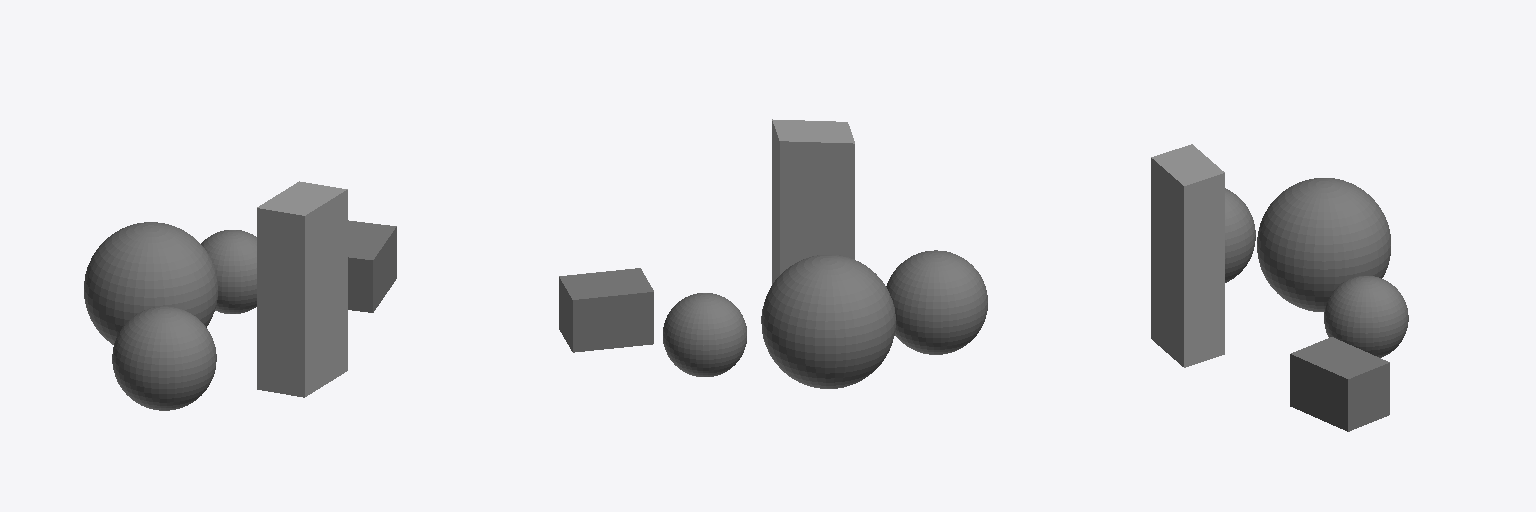
The model's file is balls_smooth.obj.
3 views of the same model, side by side, from view 1: azimuth 30°, elevation 25°; view 2: azimuth 150°, elevation 25°; view 3: azimuth 270°, elevation 25° (orthographic).
Visible parts, largest first — view 1: Cube_Cube.000, Sphere, Sphere.001, Cube_Cube.001, Sphere.002; view 2: Sphere, Cube_Cube.000, Sphere.001, Cube_Cube.001, Sphere.002; view 3: Cube_Cube.000, Sphere, Cube_Cube.001, Sphere.002, Sphere.001.
Boxes of the visible parts, <box> form: Cube_Cube.000: <box>257,181,347,397</box>; Sphere: <box>84,222,217,344</box>; Sphere.001: <box>112,306,216,410</box>; Cube_Cube.001: <box>348,220,396,312</box>; Sphere.002: <box>201,230,256,313</box>; Sphere: <box>761,255,895,388</box>; Cube_Cube.000: <box>772,119,854,284</box>; Sphere.001: <box>886,250,987,354</box>; Cube_Cube.001: <box>559,268,653,352</box>; Sphere.002: <box>663,293,746,376</box>; Cube_Cube.000: <box>1151,144,1224,367</box>; Sphere: <box>1257,178,1390,311</box>; Cube_Cube.001: <box>1290,337,1389,431</box>; Sphere.002: <box>1324,276,1408,357</box>; Sphere.001: <box>1225,188,1255,282</box>.
Bounding box in the file's own units: 9.99 × 4.96 × 6.36.